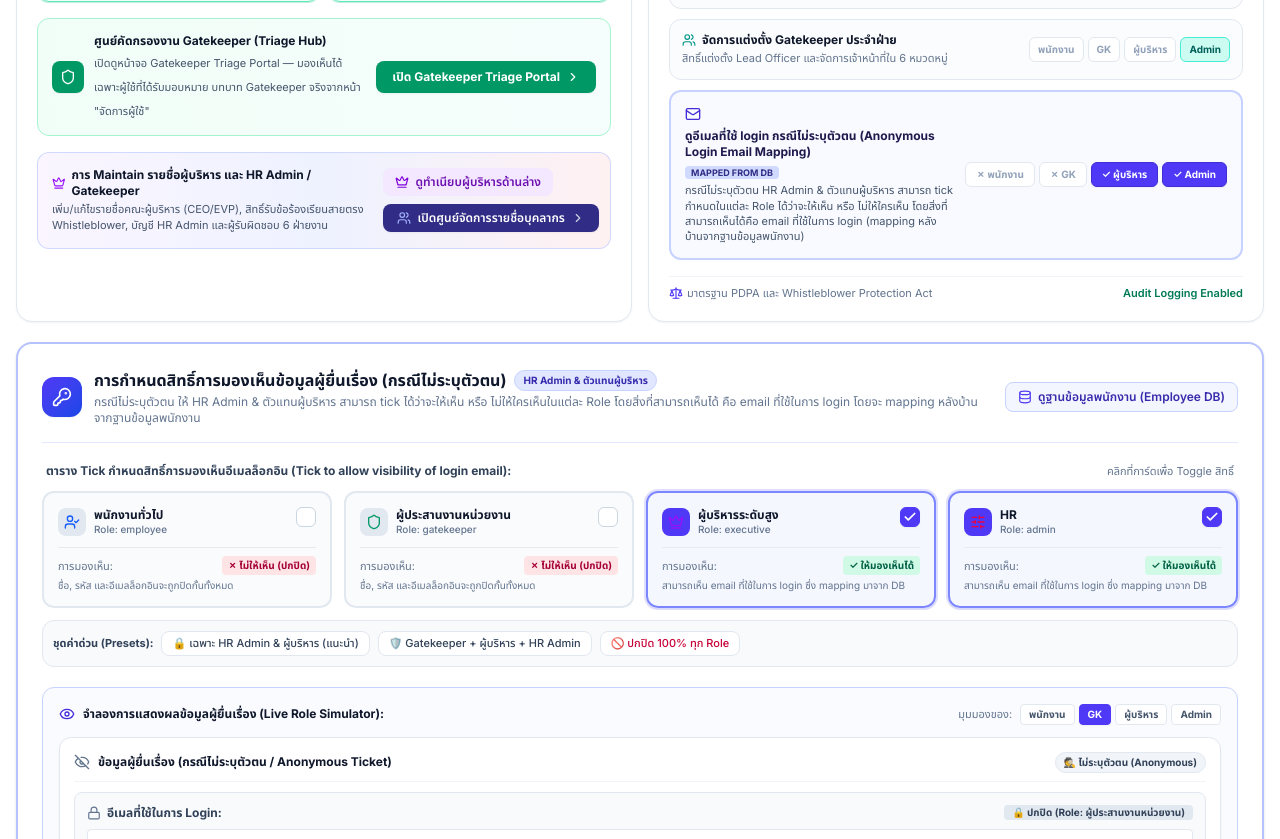
Test: RoleBasedAccessManagement › employee directory › searches (debounced, back to page 0) and pages through the results
(page scrolled)
Click the button "ดูฐานข้อมูลพนักงาน (Employee DB)" at (1122, 397), box [1005,382,1238,412]
(page scrolled)
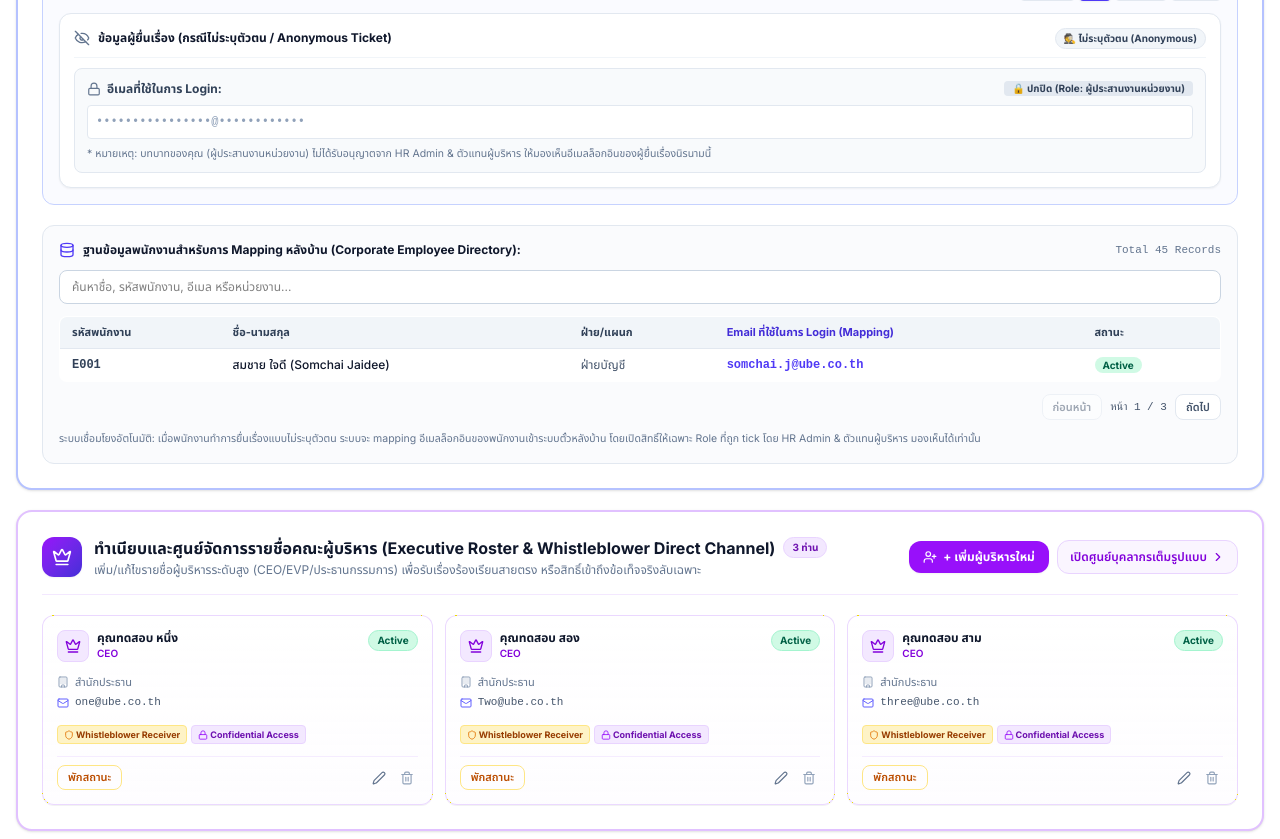
Check: the text "E001" is shown, box [60,348,221,381]
Click the button "ถัดไป" at (1198, 407), box [1175,394,1221,420]
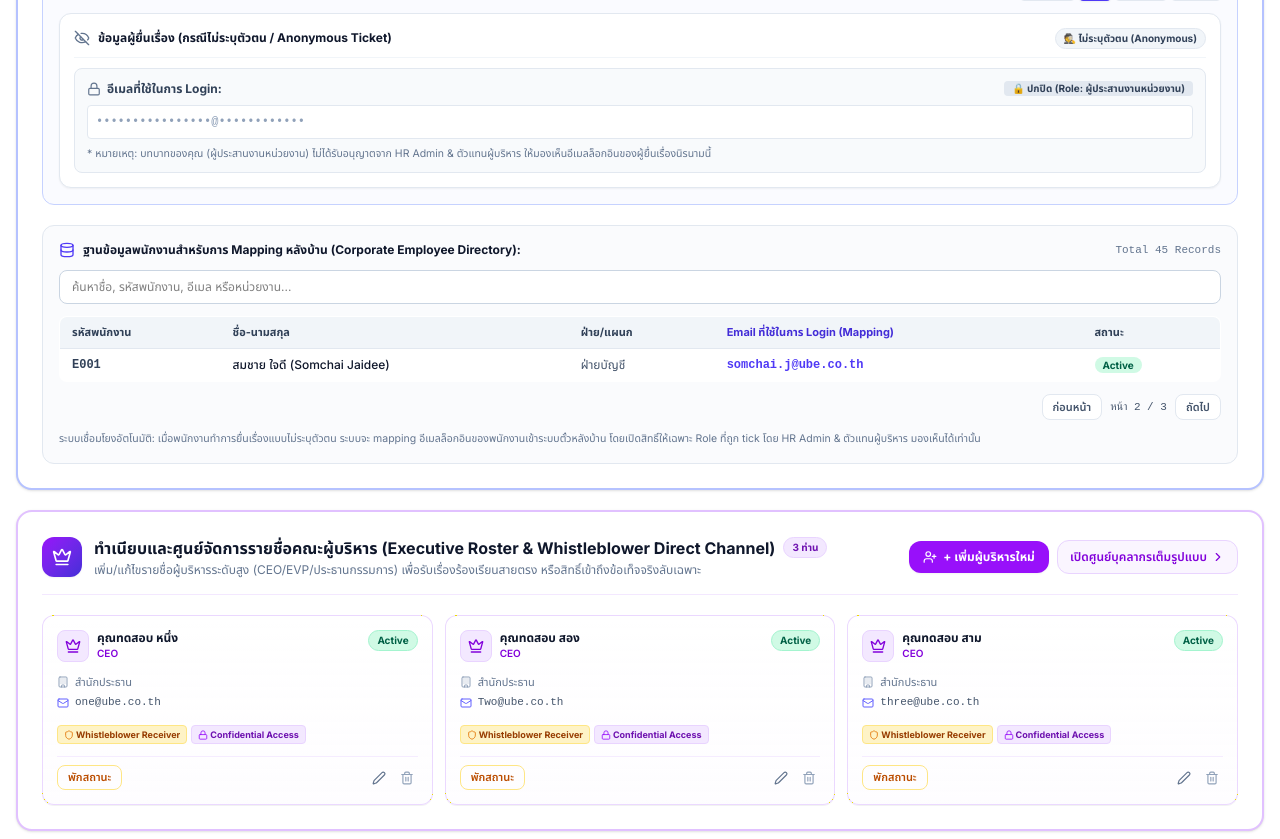
Check: the text "หน้า 2 / 3" is shown, box [1110,399,1167,415]
Type "บัญชี" into the search field with placeholder "ค้นหาชื่อ, รหัสพนักงาน, อีเมล หรือหน่วยงาน..." at (640, 287), box [59,270,1221,304]
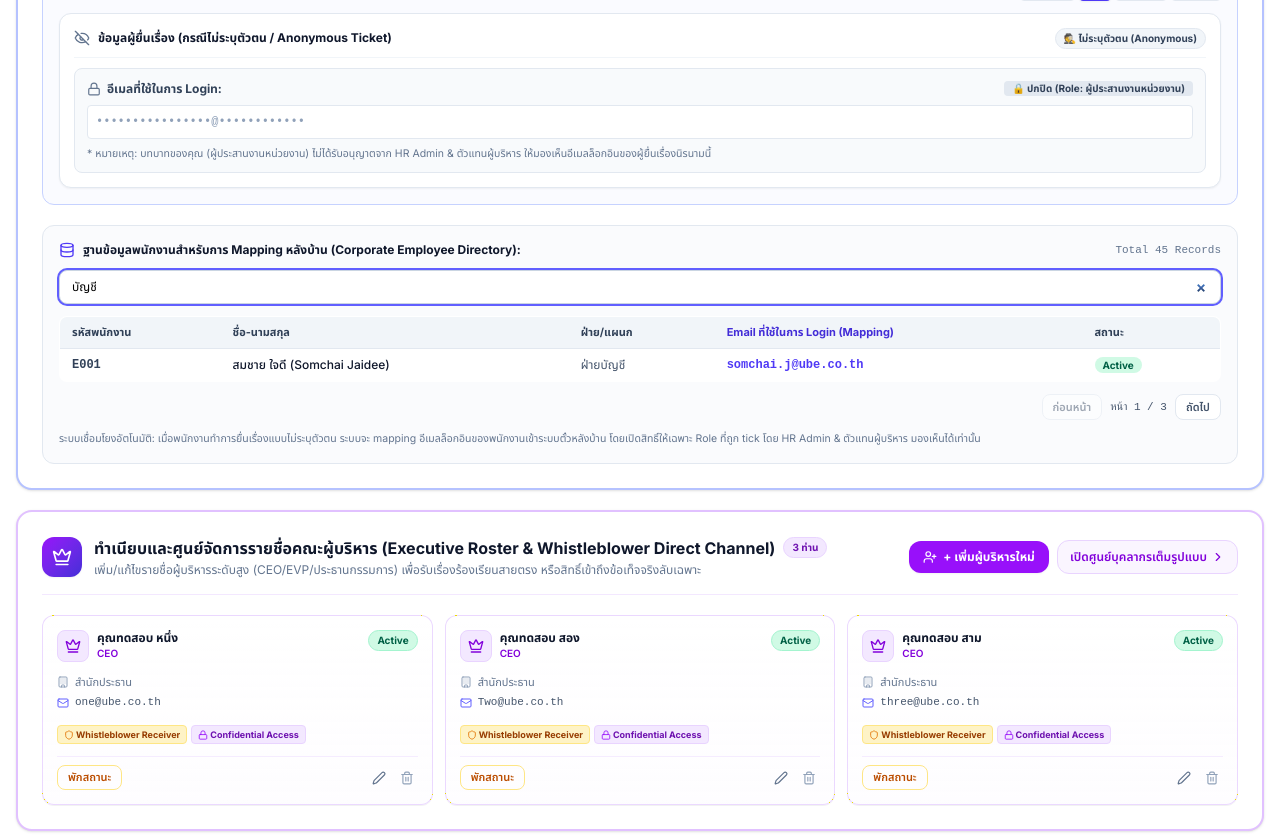
Check: the text "หน้า 1 / 3" is shown, box [1110,399,1167,415]
Check: the button "ก่อนหน้า" is disabled, box [1042,394,1102,420]
